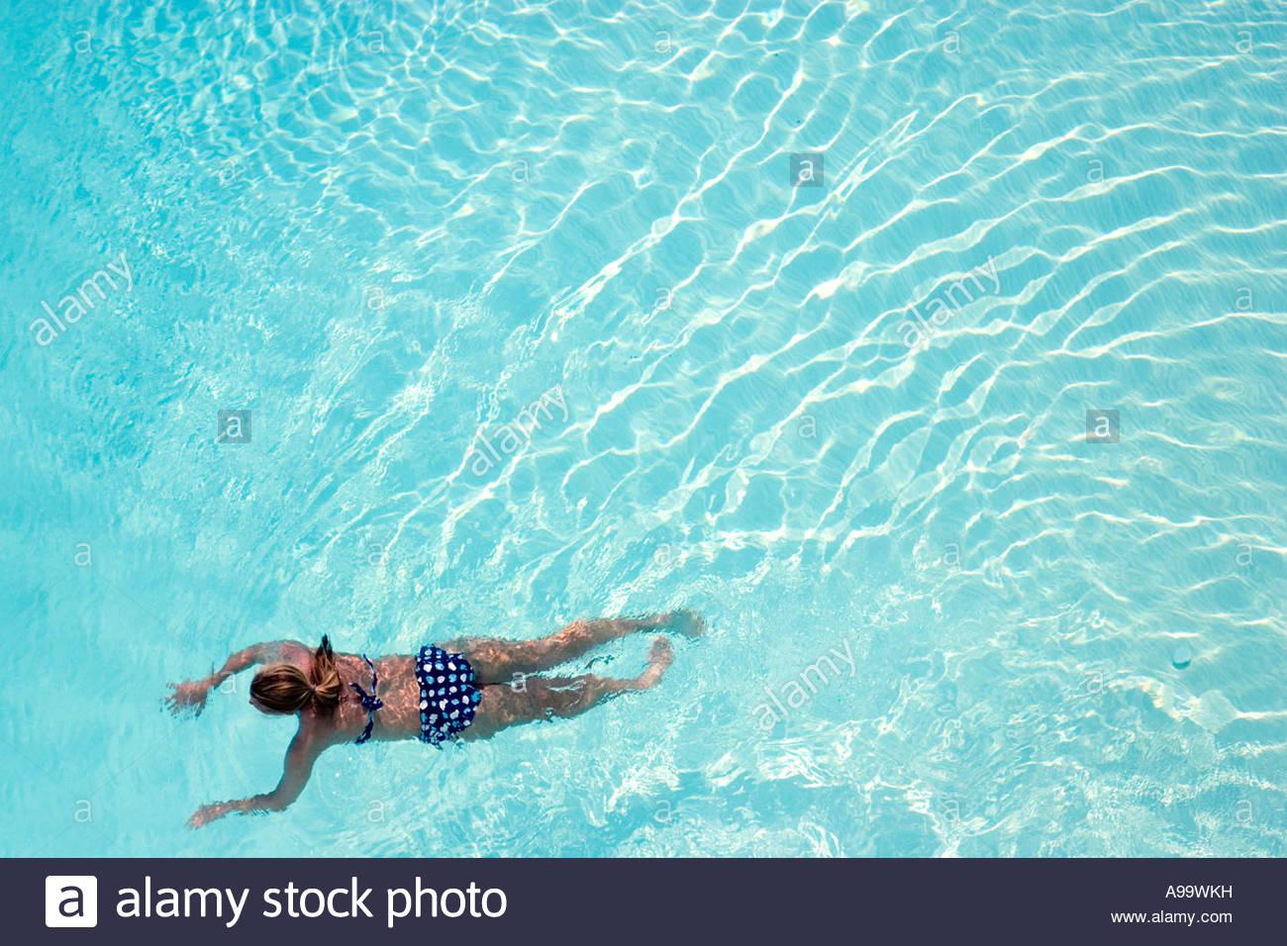human: (163, 613, 702, 833)
